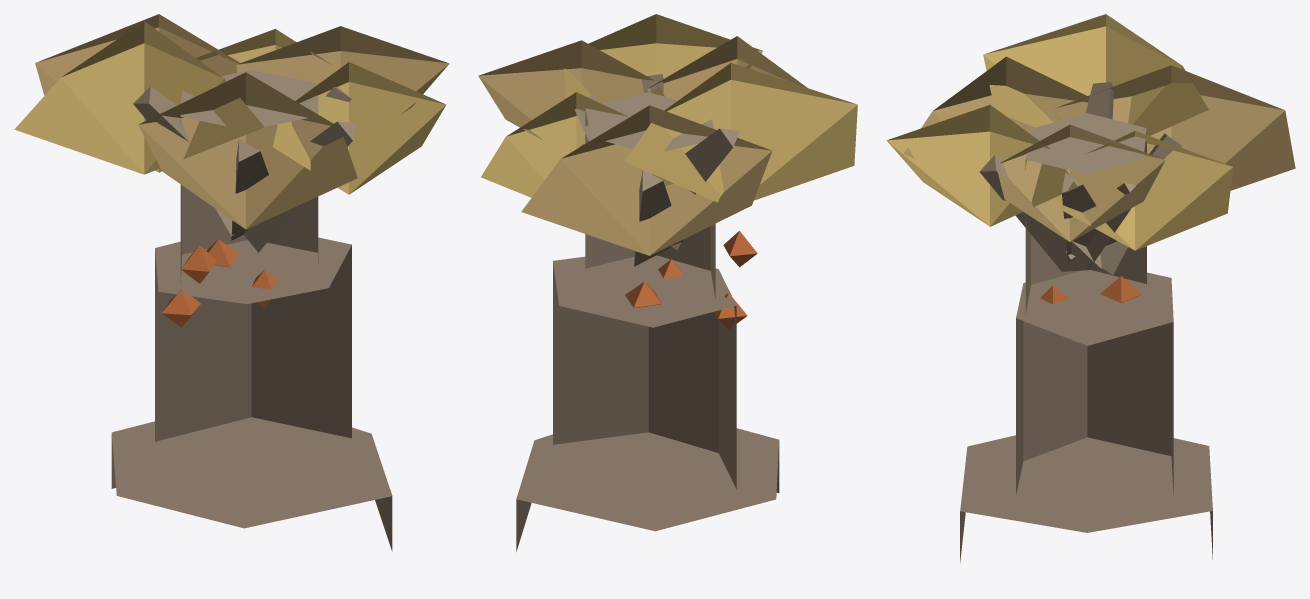
Rendered from tree.trop.baobab__autumn.glb.
3 renders of one model, left to right at view 1: azimuth 30°, elevation 25°; view 2: azimuth 150°, elevation 25°; view 3: azimuth 270°, elevation 25°, orthographic. The views are drawn at different scales.
Visible parts, largest first — view 1: tree.trop.baobab__autumn; view 2: tree.trop.baobab__autumn; view 3: tree.trop.baobab__autumn.
Part boxes in pixels (left/top/right/bottom): tree.trop.baobab__autumn: left=14, top=14, right=449, bottom=551; tree.trop.baobab__autumn: left=478, top=14, right=857, bottom=551; tree.trop.baobab__autumn: left=886, top=14, right=1295, bottom=562.
Size of the model in its own units: 6.04 by 7.14 by 5.59.
